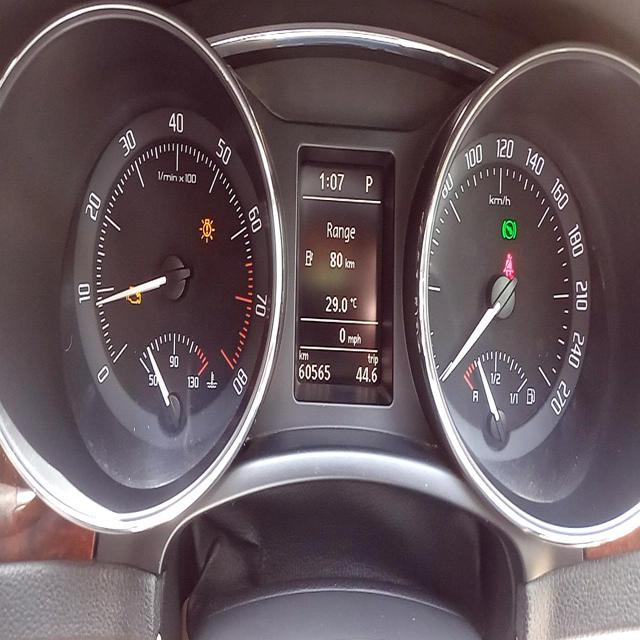odometer: (298, 362, 332, 384)
